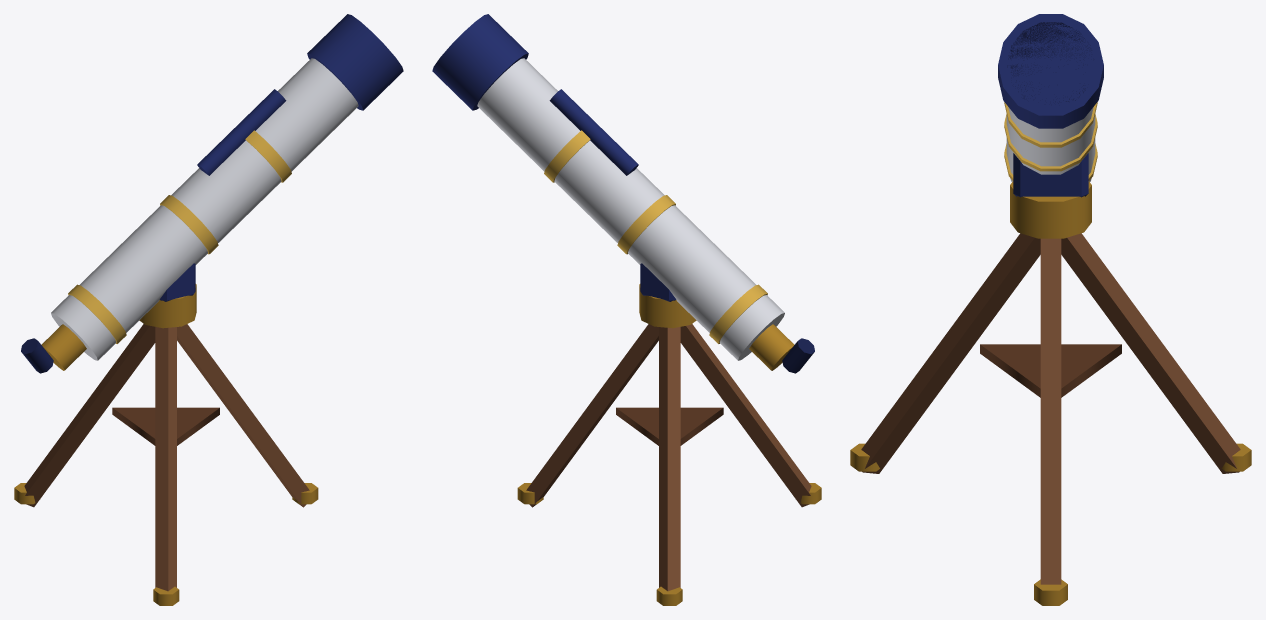
The model's file is observatory-prop1.glb.
3 views of the same model, side by side, from view 1: azimuth 30°, elevation 25°; view 2: azimuth 150°, elevation 25°; view 3: azimuth 270°, elevation 25° (orthographic). The views are drawn at different scales.
Visible parts, largest first — view 1: observatory-prop1; view 2: observatory-prop1; view 3: observatory-prop1.
Boxes of the visible parts, <box> form: observatory-prop1: <box>14,14,403,605</box>; observatory-prop1: <box>432,14,821,605</box>; observatory-prop1: <box>850,14,1251,605</box>.
Size of the model in its own units: 1.66 by 2.02 by 1.17.
